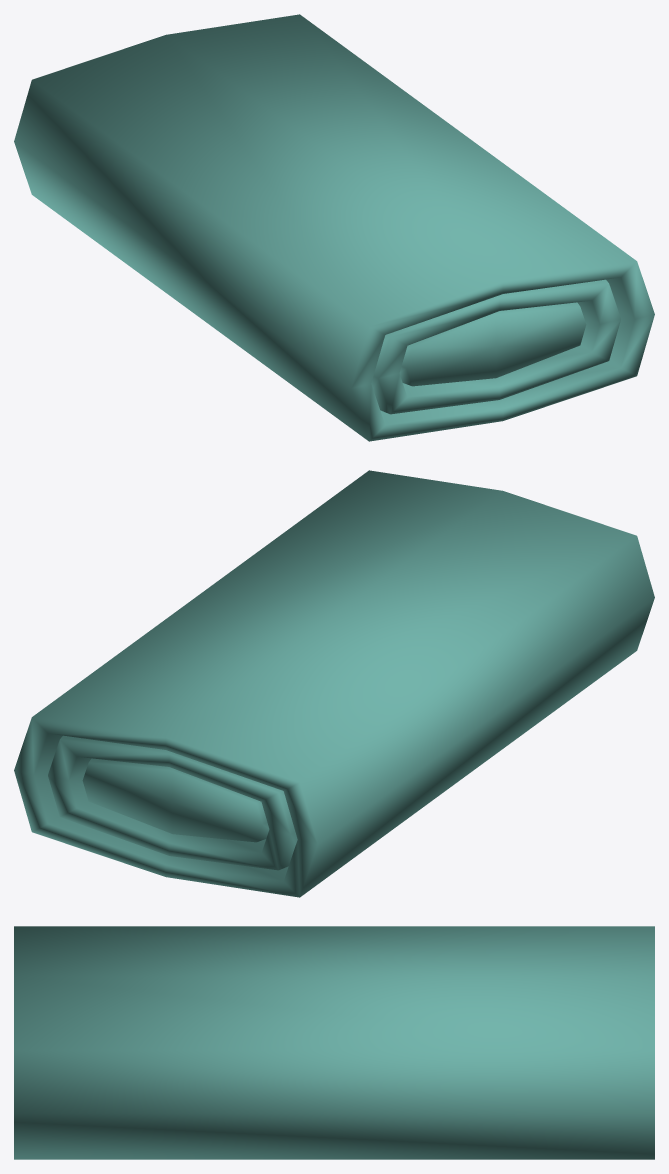
Rendered from rpgpp_ag_carpet_02a.fbx.
3 views of the same model, one above another, from view 1: azimuth 30°, elevation 25°; view 2: azimuth 150°, elevation 25°; view 3: azimuth 270°, elevation 25° (orthographic). The views are drawn at different scales.
Visible parts, largest first — view 1: rpgpp_ag_carpet_02a; view 2: rpgpp_ag_carpet_02a; view 3: rpgpp_ag_carpet_02a.
Part boxes in pixels (bbox=[...]): rpgpp_ag_carpet_02a: bbox=[14, 14, 654, 441]; rpgpp_ag_carpet_02a: bbox=[14, 470, 654, 897]; rpgpp_ag_carpet_02a: bbox=[14, 926, 654, 1159].
Bounding box in the file's own units: 0.52 × 0.2281 × 1.
